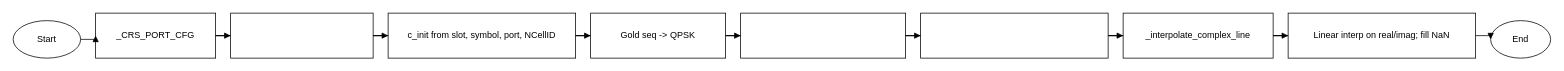
This 1564x71 diagram has some shape labels left out. The shapes that lost their labels are listed below. From the top down, each one's centre as x and y in pixels, then its label:
[301,35]: _crs_qpsk_sequence
[823,35]: _pbch_absolute_subcarriers
[1014,35]: start_rb = ndlrb/2 - 3; width=72
